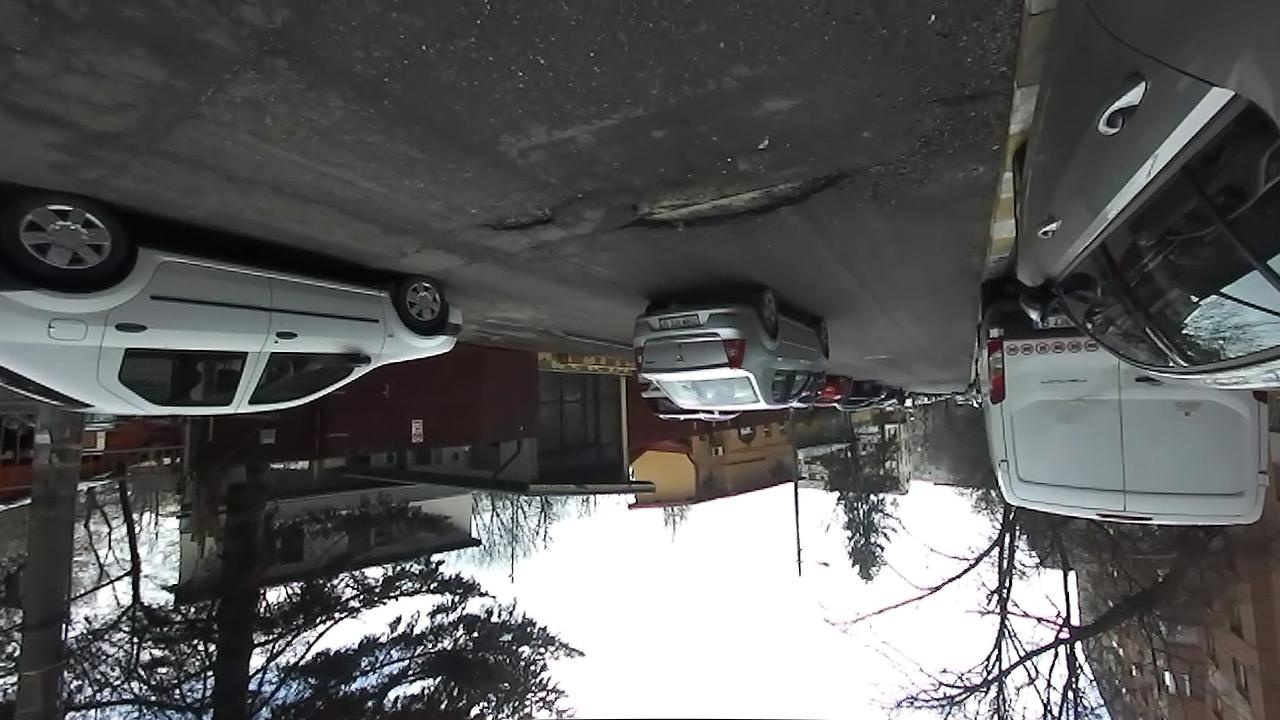pothole: (619, 161, 861, 236), (477, 197, 567, 236)
